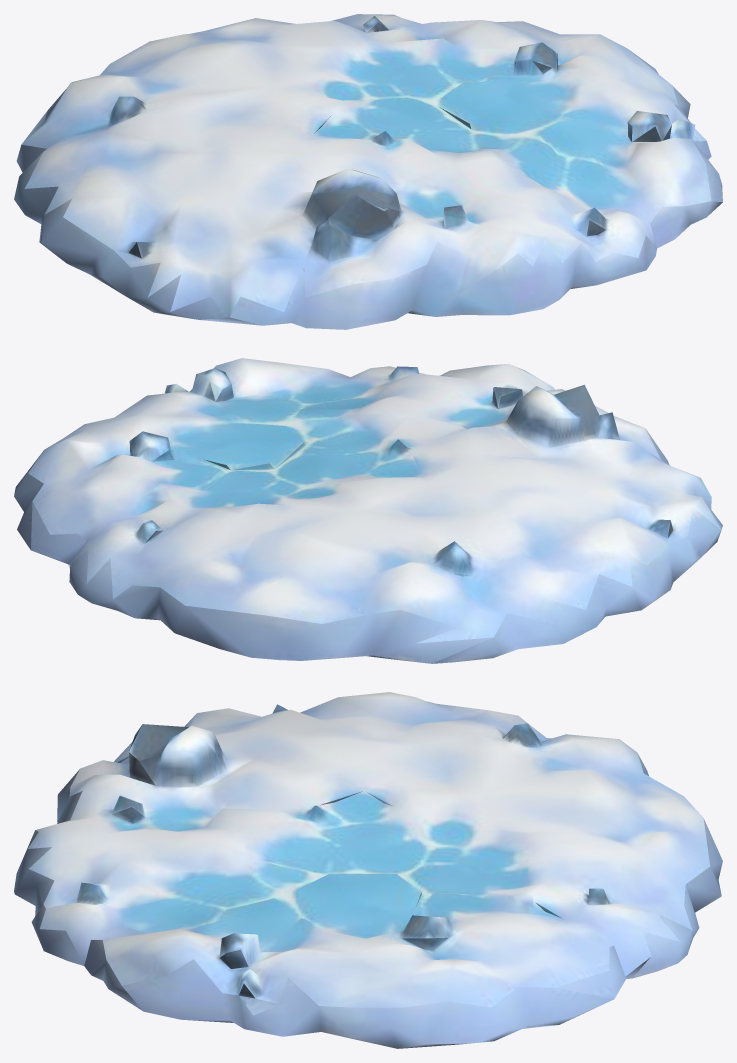
The model's file is d_givre_butte.glb.
3 renders of one model, top to bottom at view 1: azimuth 30°, elevation 25°; view 2: azimuth 150°, elevation 25°; view 3: azimuth 270°, elevation 25°, orthographic. The views are drawn at different scales.
Parts seen in each view (by area): view 1: geometry_0; view 2: geometry_0; view 3: geometry_0.
Part boxes in pixels (x1,y1,x2,y2): geometry_0: (14, 14, 722, 329); geometry_0: (14, 358, 722, 663); geometry_0: (14, 692, 722, 1048).
Size of the model in its own units: 1 by 0.1618 by 0.9346.
1 material, 1 textured.
